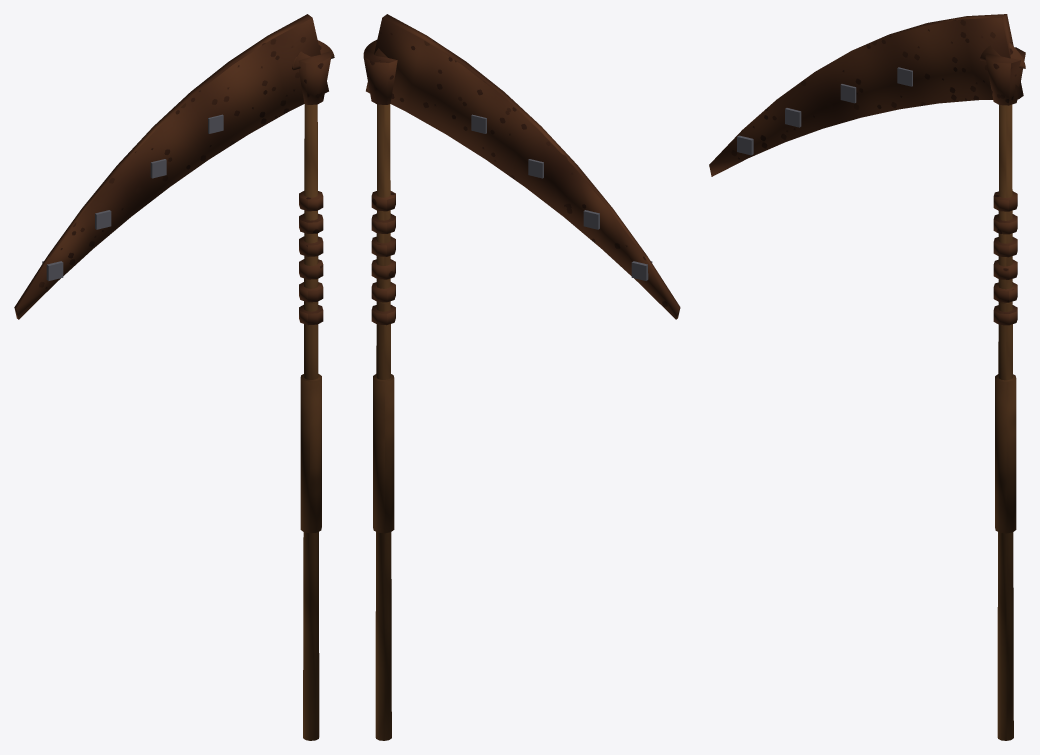
File: w_rust_executioner.glb
The picture shows the model from 3 angles, left to right: view 1: azimuth 30°, elevation 25°; view 2: azimuth 150°, elevation 25°; view 3: azimuth 330°, elevation 25°; orthographic projection.
Visible parts, largest first — view 1: w_rust_executioner; view 2: w_rust_executioner; view 3: w_rust_executioner.
Boxes of the visible parts, x1,y1,x2,y2 form: w_rust_executioner: (14,14,334,740); w_rust_executioner: (363,14,680,740); w_rust_executioner: (709,14,1025,740).
Size of the model in its own units: 0.8758 by 1.9 by 0.1.
Materials: 4 (3 with a texture image).
